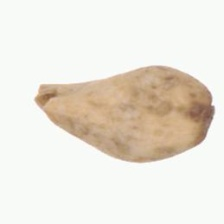L1: (30, 81, 64, 125), (197, 96, 217, 143)
L2: (33, 66, 215, 164)
